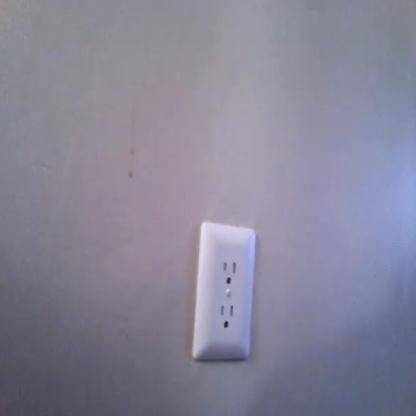OUTLET: (194, 224, 252, 362)
